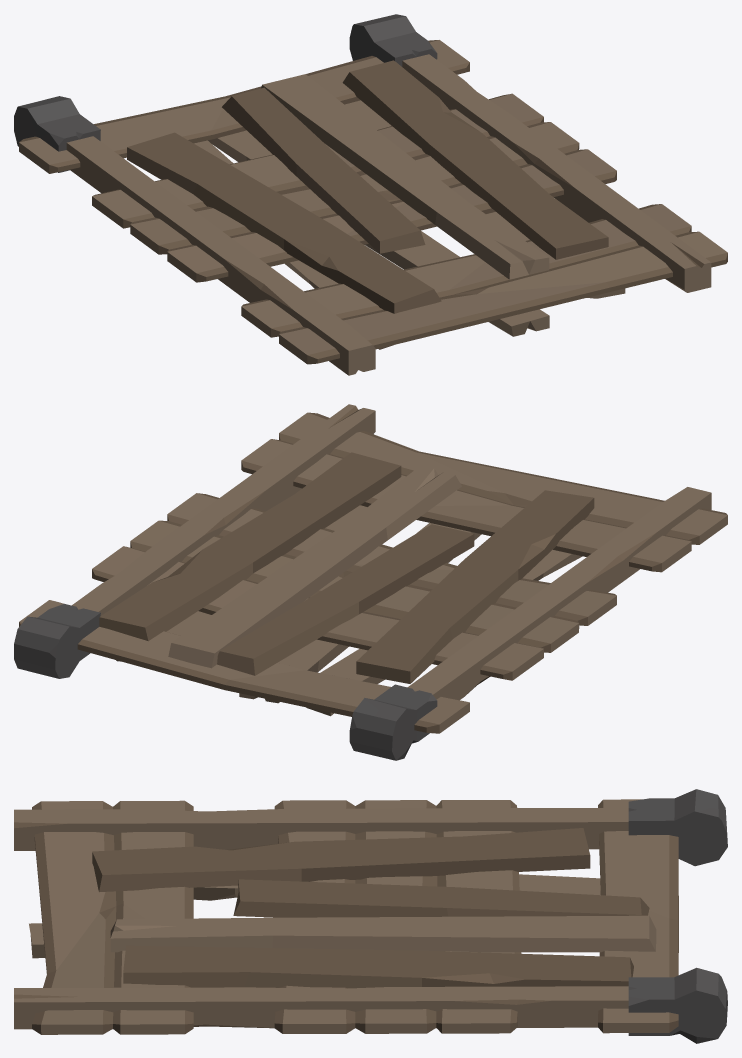
Rendered from env_siege_ramp.gltf.
3 views of the same model, one above another, from view 1: azimuth 30°, elevation 25°; view 2: azimuth 150°, elevation 25°; view 3: azimuth 270°, elevation 25° (orthographic). The views are drawn at different scales.
Visible parts, largest first — view 1: env_siege_ramp; view 2: env_siege_ramp; view 3: env_siege_ramp.
Part boxes in pixels (x1,y1,x2,y2): env_siege_ramp: (14, 14, 727, 375); env_siege_ramp: (14, 404, 727, 760); env_siege_ramp: (14, 789, 727, 1043).
Bounding box in the file's own units: 2.72 × 0.3121 × 3.67.
1 material, 1 textured.
